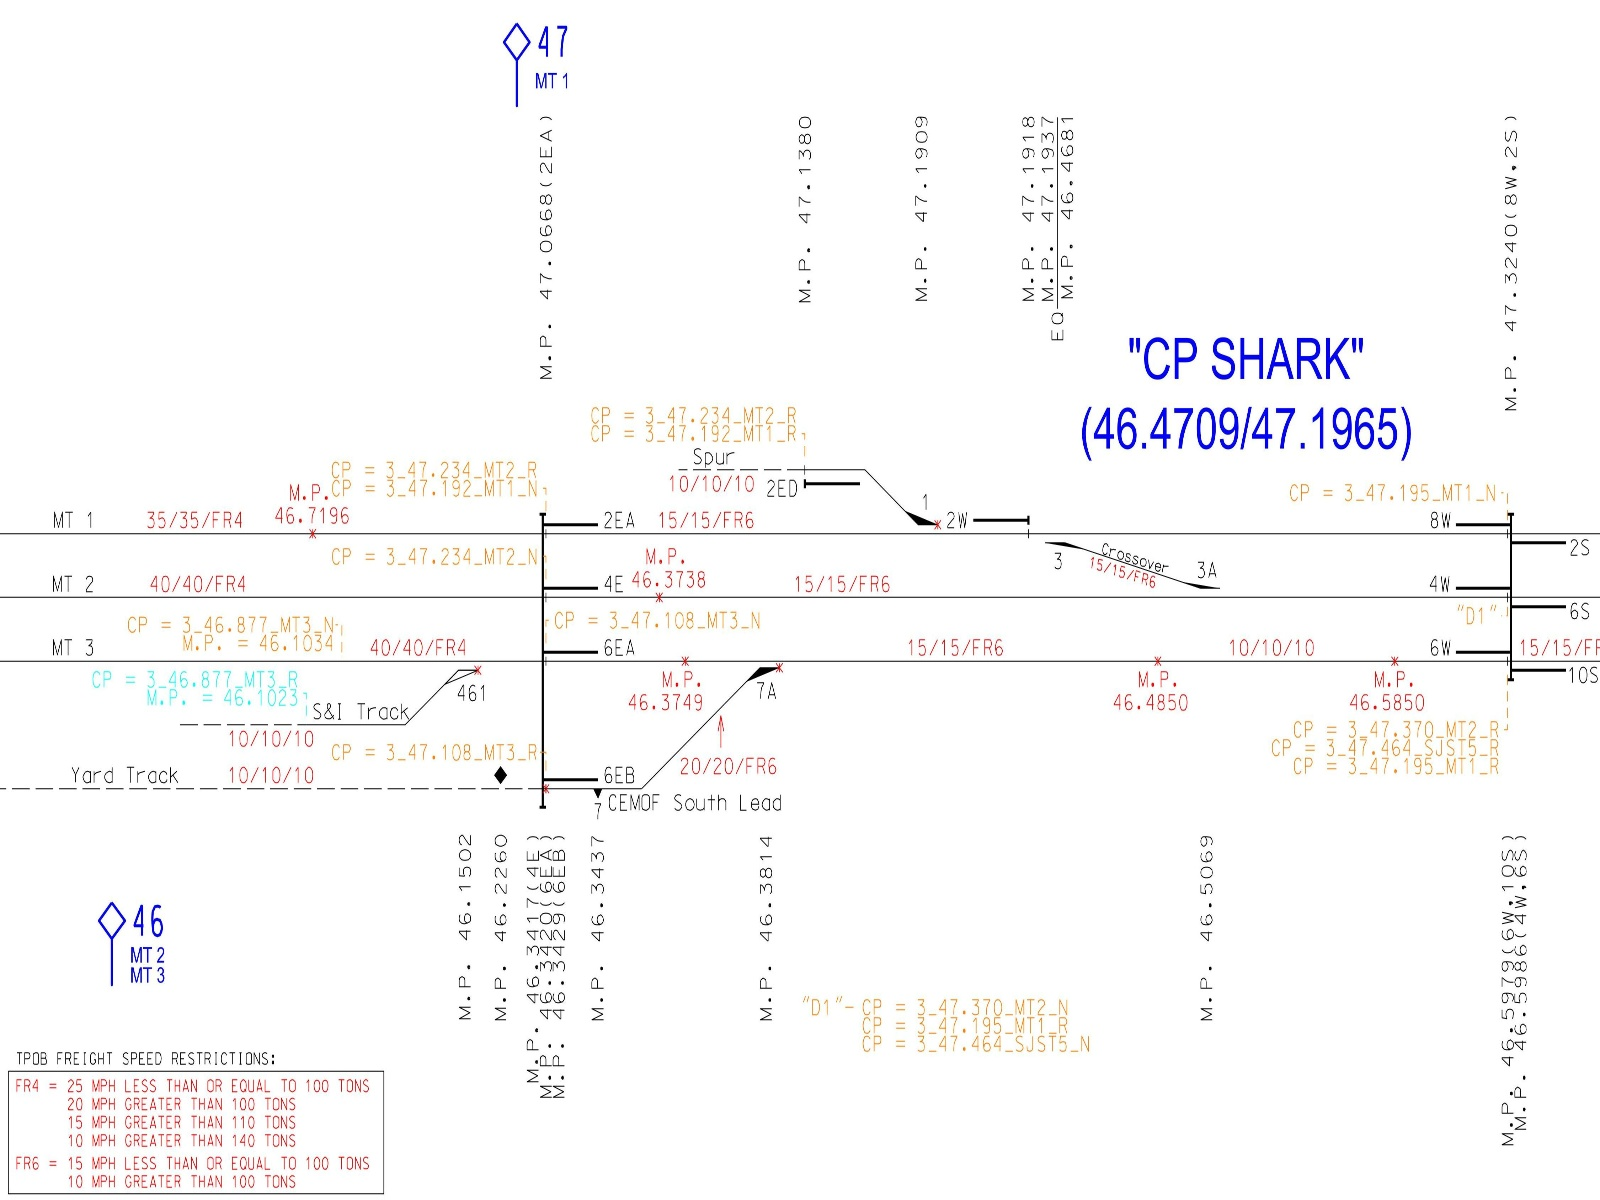leftSignal: (1419, 505, 1524, 541), (1419, 563, 1524, 599), (1415, 632, 1519, 667), (760, 474, 866, 508), (942, 502, 1037, 537)
milepost: (771, 108, 843, 314), (1173, 827, 1245, 1032), (576, 827, 648, 1032), (445, 824, 517, 1030), (883, 105, 955, 309), (714, 829, 786, 1034)
rightSignal: (527, 508, 648, 545), (527, 571, 632, 611), (540, 747, 646, 788), (1494, 657, 1600, 697), (534, 632, 640, 671), (1493, 536, 1597, 571), (1493, 596, 1600, 629)
switch: (740, 654, 797, 710), (1175, 555, 1233, 610), (1043, 529, 1089, 584)
